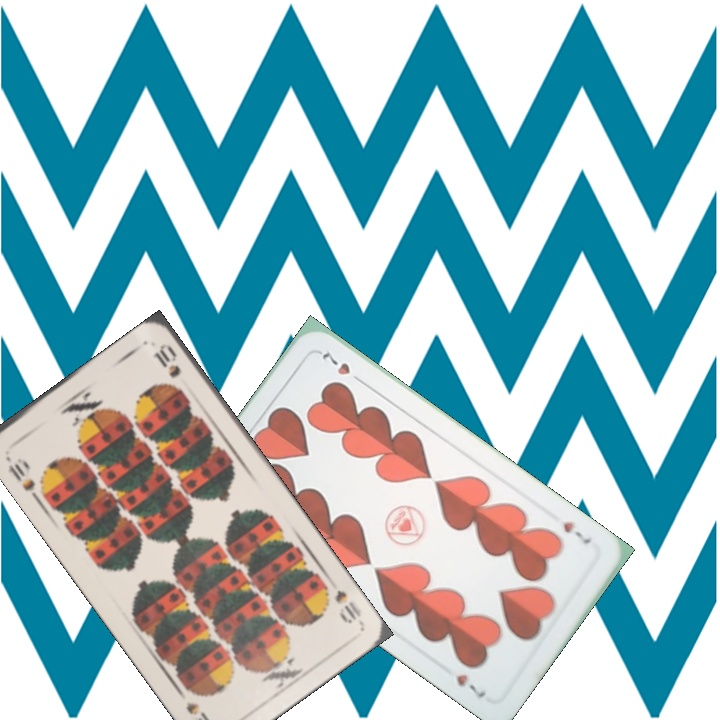H7: (558, 517, 594, 547)
S10: (1, 452, 38, 494), (330, 585, 364, 626)
